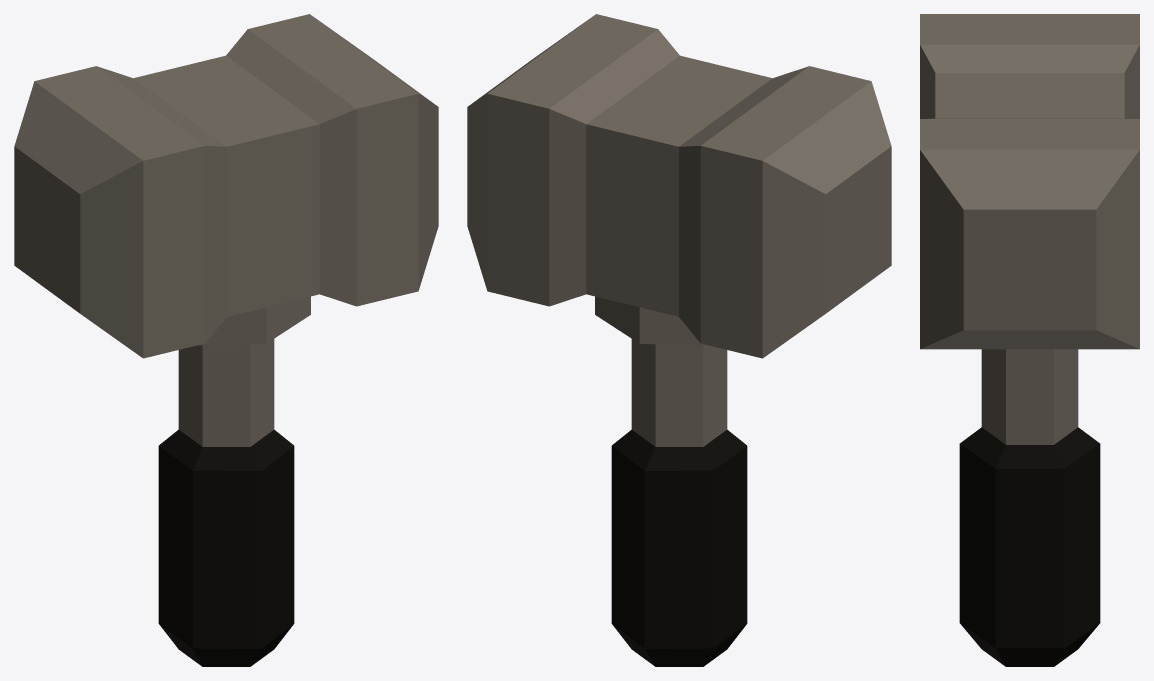
Rendered from Fantasy_Axe_2.fbx.
3 views of the same model, side by side, from view 1: azimuth 30°, elevation 25°; view 2: azimuth 150°, elevation 25°; view 3: azimuth 270°, elevation 25° (orthographic).
Parts seen in each view (by area): view 1: Fantasy_Axe_2; view 2: Fantasy_Axe_2; view 3: Fantasy_Axe_2.
Part boxes in pixels (left/top/right/bottom): Fantasy_Axe_2: left=14, top=14, right=438, bottom=666; Fantasy_Axe_2: left=467, top=14, right=891, bottom=666; Fantasy_Axe_2: left=920, top=14, right=1139, bottom=666.
Size of the model in its own units: 34.96 by 52.39 by 18.4.
Materials: 1 (1 with a texture image).
